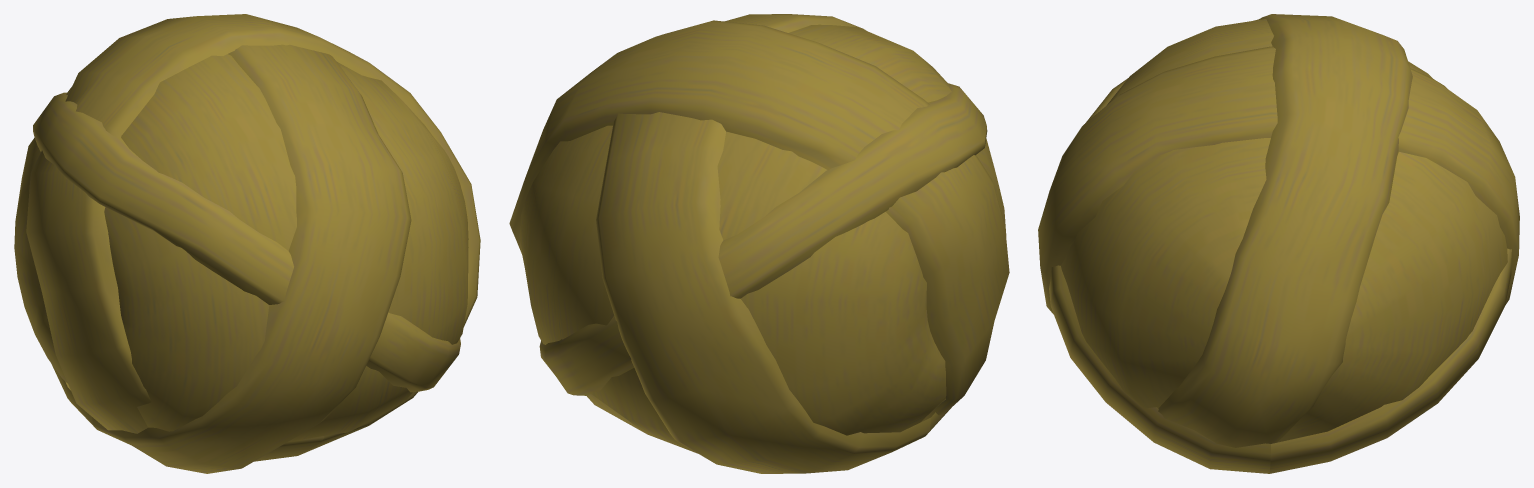
Rendered from yarn.fbx.
3 views of the same model, side by side, from view 1: azimuth 30°, elevation 25°; view 2: azimuth 150°, elevation 25°; view 3: azimuth 270°, elevation 25° (orthographic). The views are drawn at different scales.
Parts seen in each view (by area): view 1: yarn; view 2: yarn; view 3: yarn.
Boxes of the visible parts, bbox=[...] form: yarn: bbox=[14, 14, 480, 473]; yarn: bbox=[509, 14, 1009, 473]; yarn: bbox=[1038, 14, 1519, 473].
Bounding box in the file's own units: 9.62 × 8.74 × 9.58.
1 material, 1 textured.
